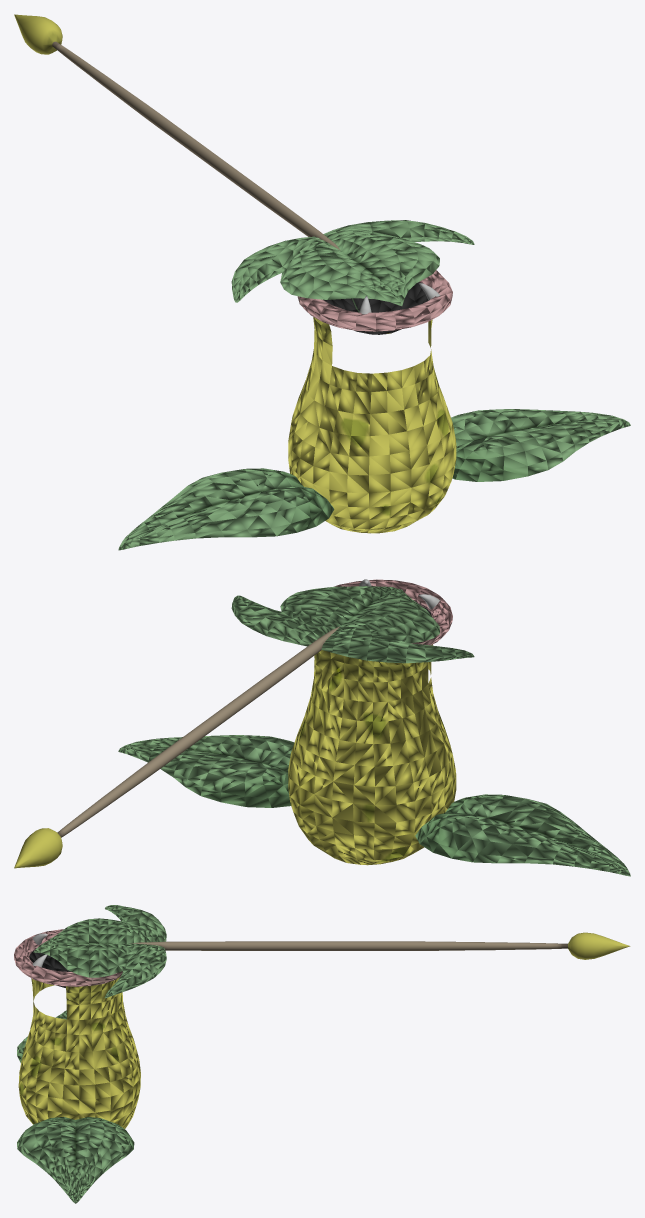
File: 071 Victreebel-1.gltf
3 renders of one model, top to bottom at view 1: azimuth 30°, elevation 25°; view 2: azimuth 150°, elevation 25°; view 3: azimuth 270°, elevation 25°, orthographic. The views are drawn at different scales.
Visible parts, largest first — view 1: Victreebel; view 2: Victreebel; view 3: Victreebel.
Boxes of the visible parts, x1=… form: Victreebel: x1=14, y1=14, x2=630, y2=550; Victreebel: x1=14, y1=579, x2=630, y2=876; Victreebel: x1=14, y1=905, x2=630, y2=1203.
Size of the model in its own units: 720 by 354 by 974.
Materials: 2 (2 with a texture image).
